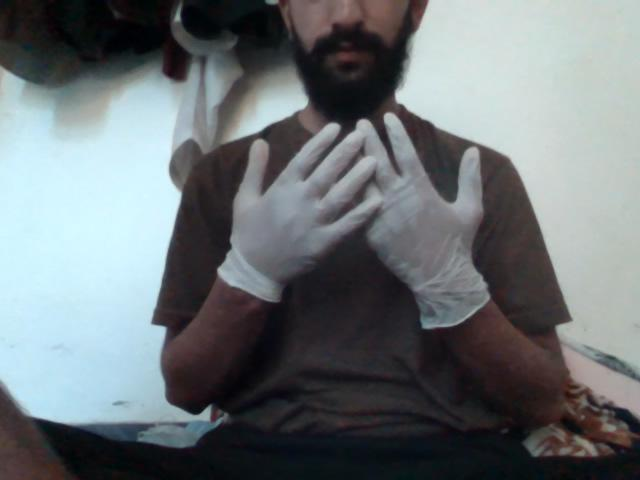gloves: (374, 106, 522, 329), (221, 109, 370, 322)
